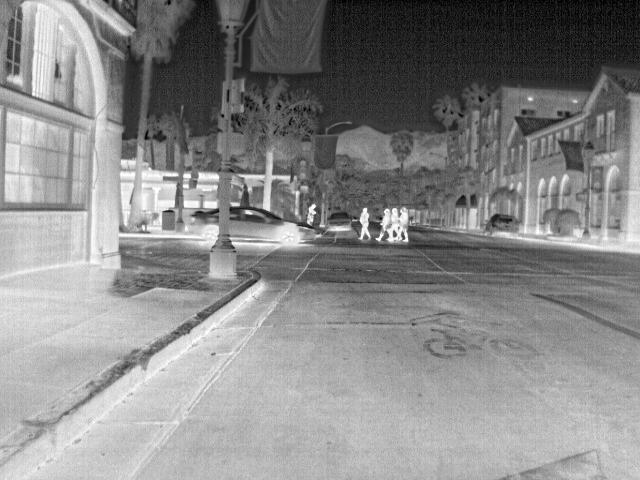car: (229, 203, 320, 244), (189, 206, 221, 244), (484, 212, 522, 238), (325, 210, 353, 231)
person: (372, 206, 389, 241), (385, 205, 400, 242), (398, 206, 411, 247), (356, 206, 372, 239), (304, 202, 320, 228)
